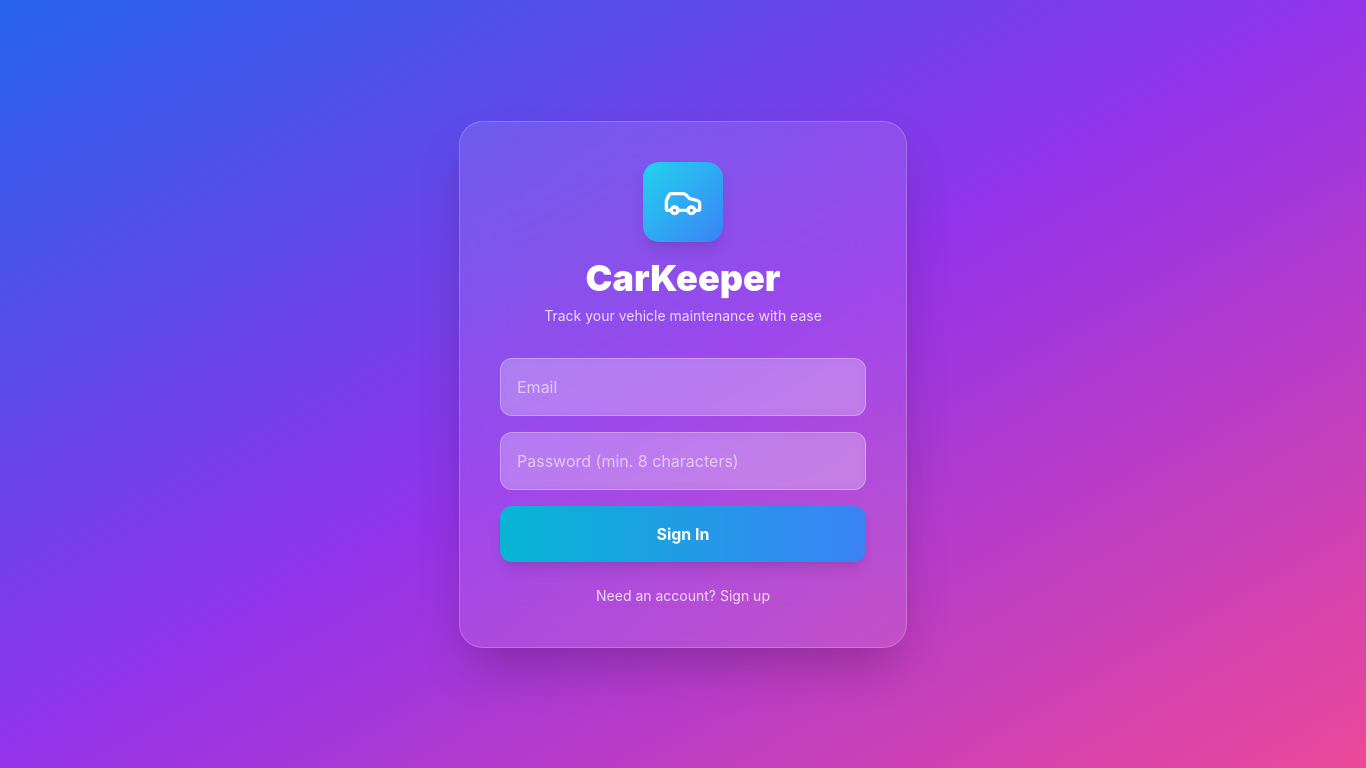
Test: authentication › shows the server message when credentials are rejected
Type "a@b.com" into the field with placeholder "Email" at [683, 386], box [500,358,866,416]
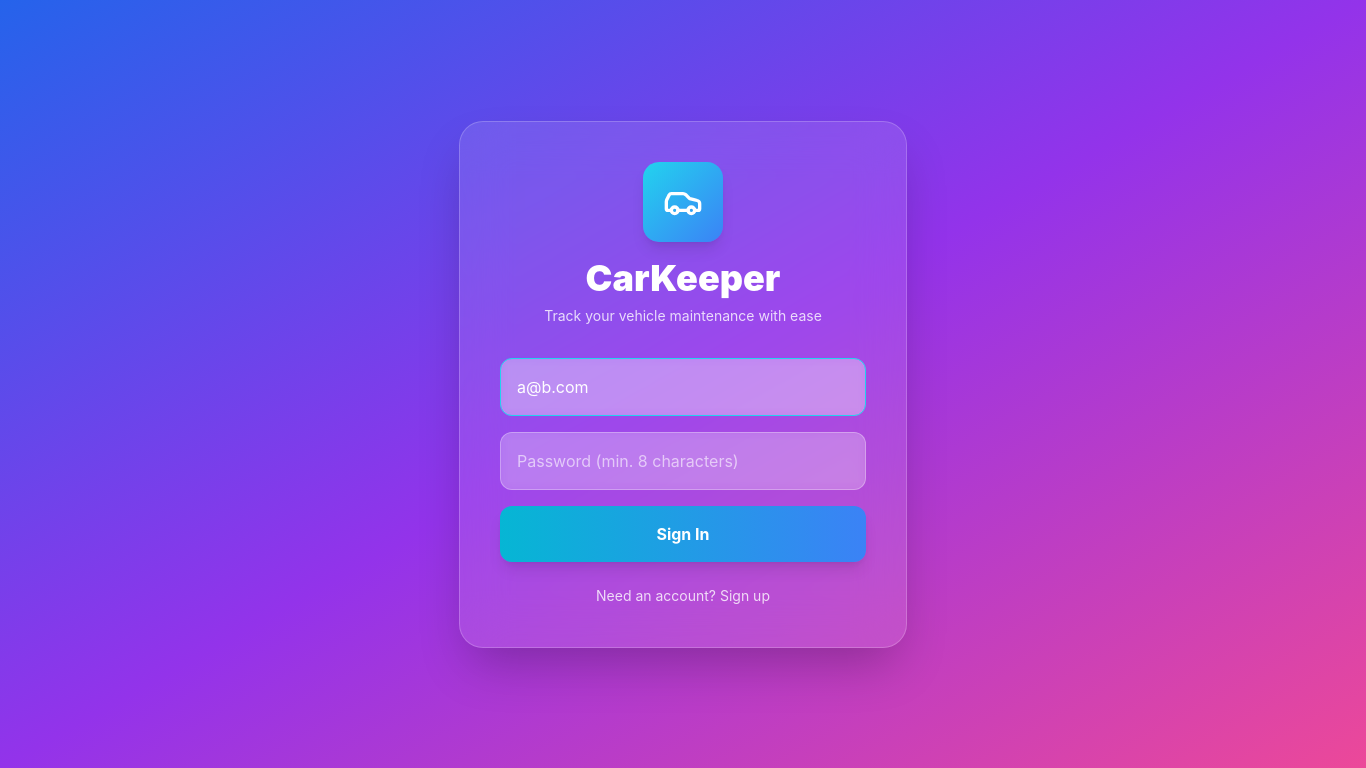
Type "wrongpassword" into the password field with placeholder "Password (min. 8 characters)" at [683, 460], box [500,432,866,490]
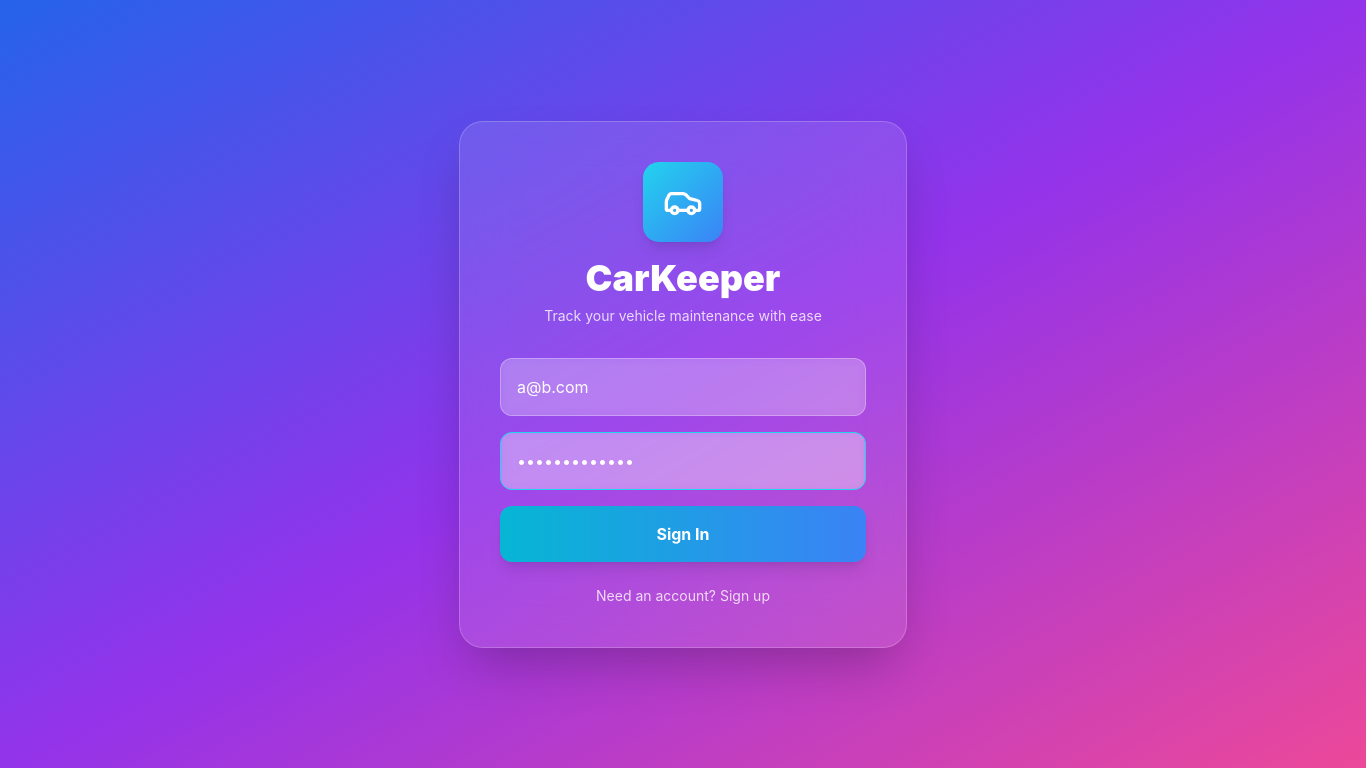
Click the button "Sign In" at [683, 534], box [500,506,866,562]
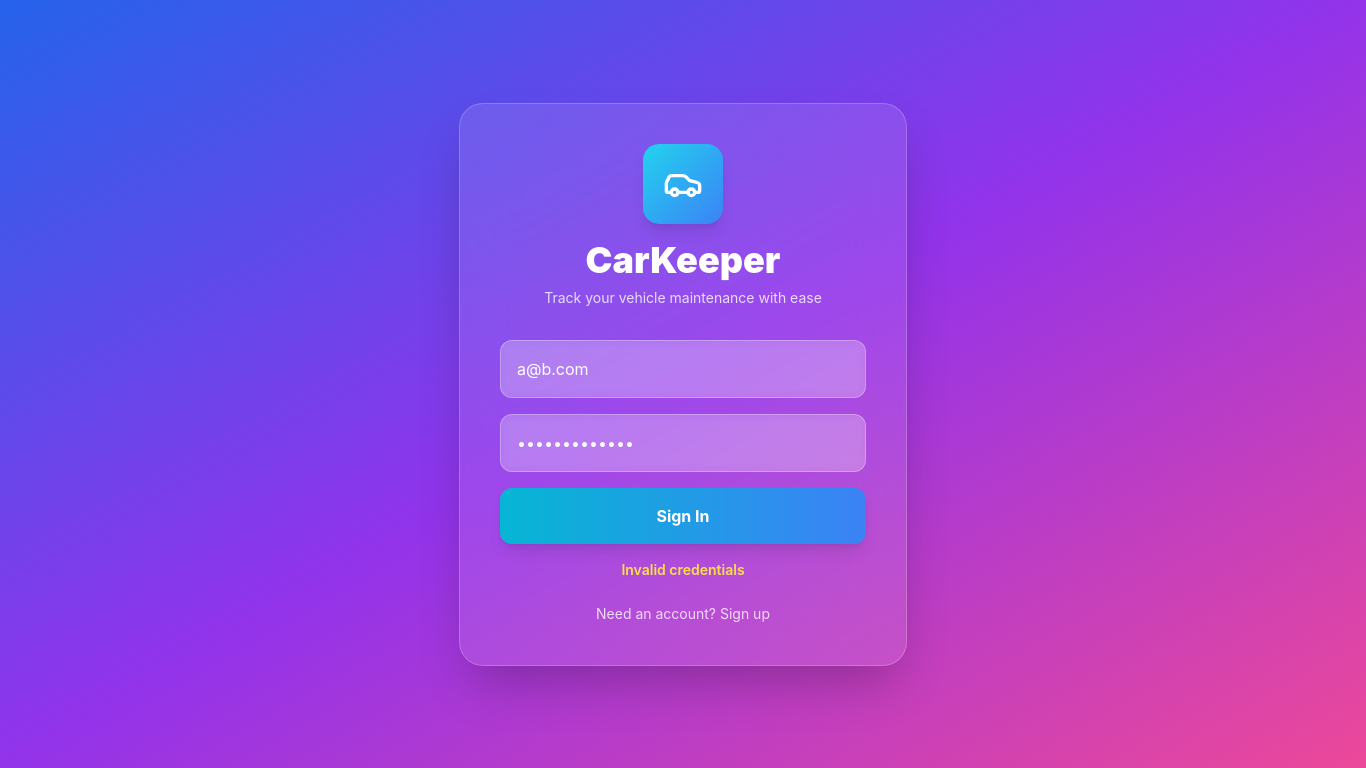
Check: the text "Invalid credentials" is shown, box [621,560,745,578]
